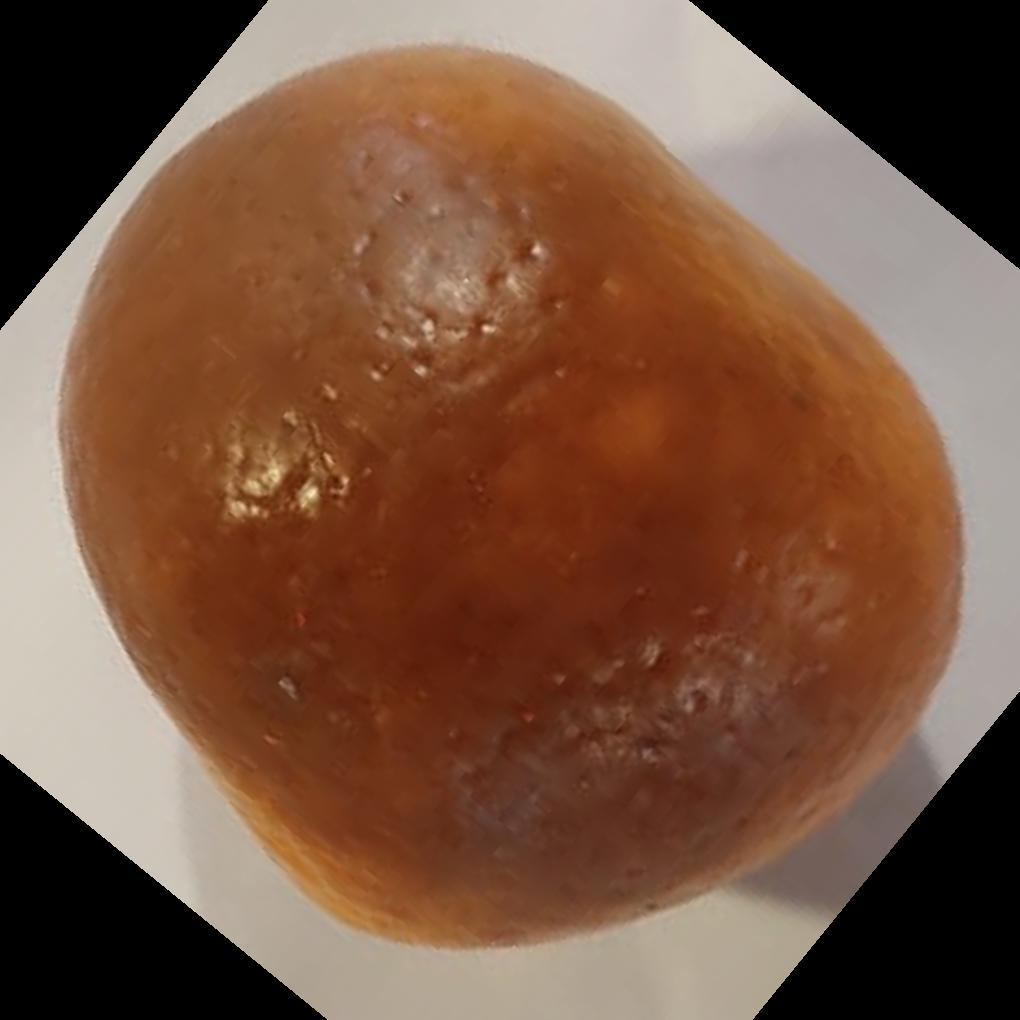FreshOrange: (48, 44, 966, 955)
